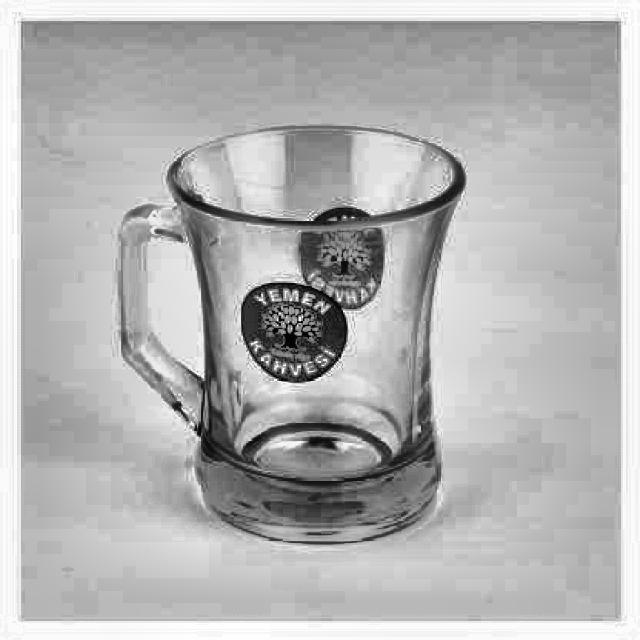Mug: (113, 125, 467, 548)
